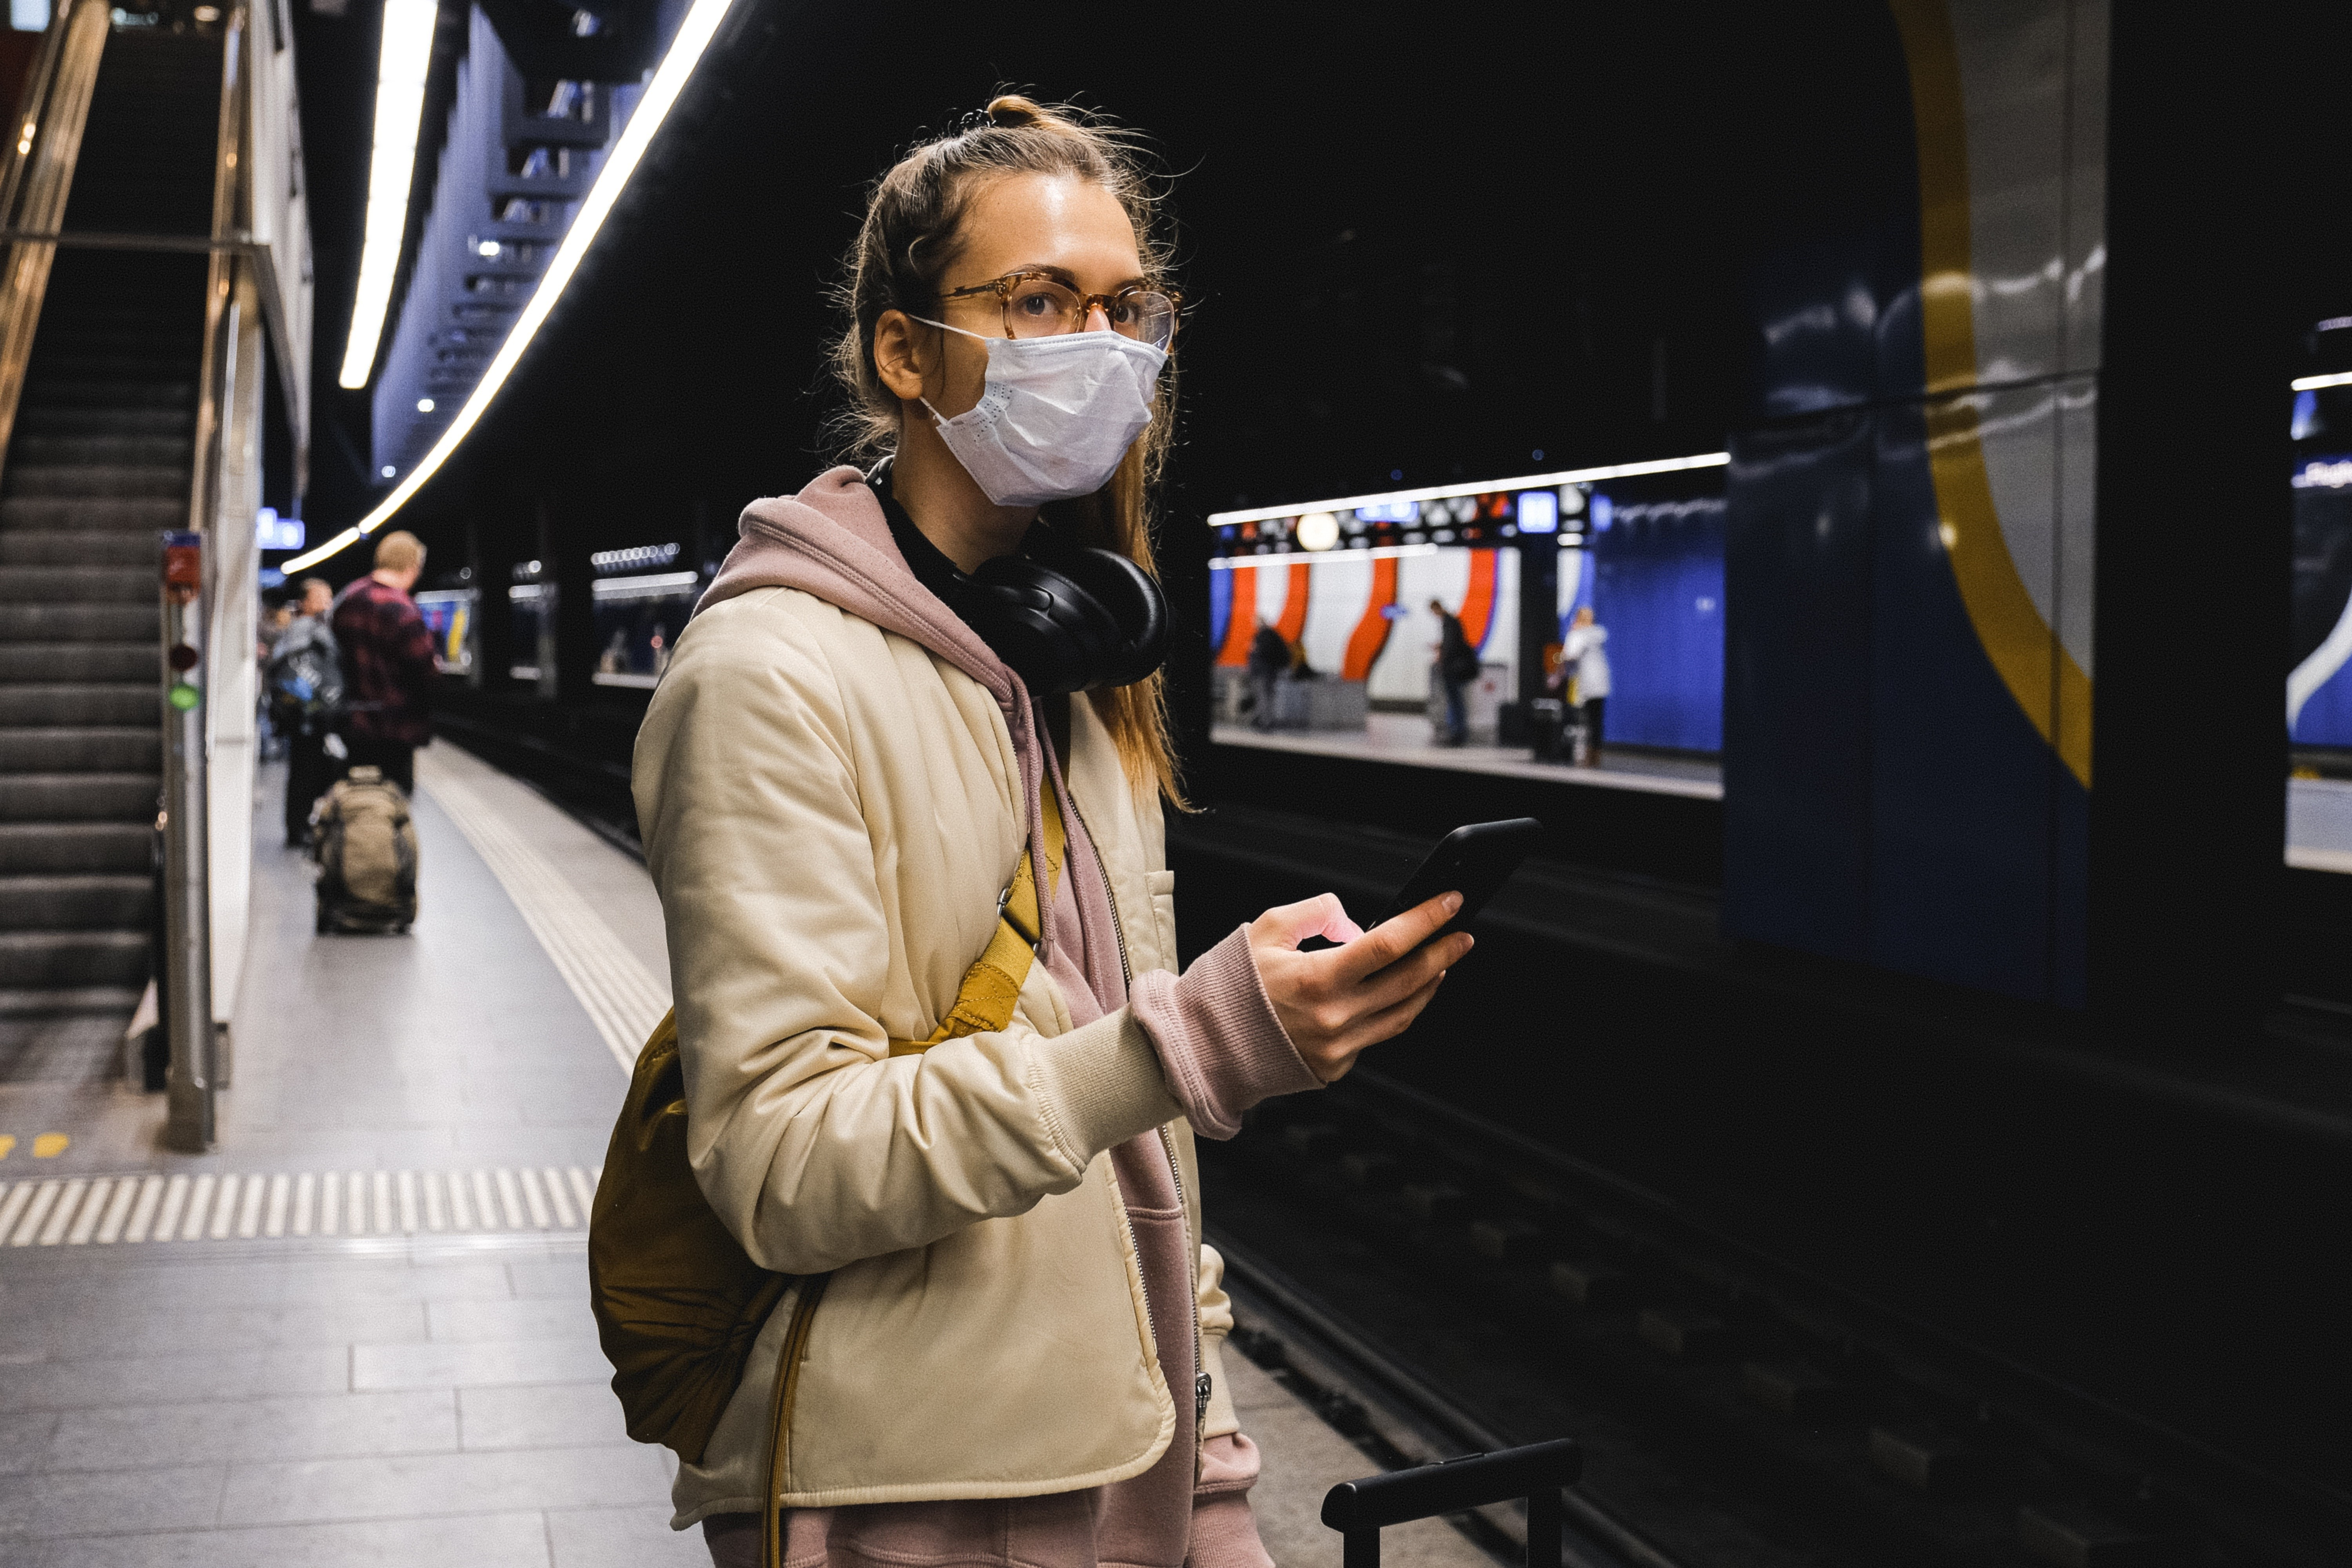face_with_mask: (858, 102, 1192, 511)
